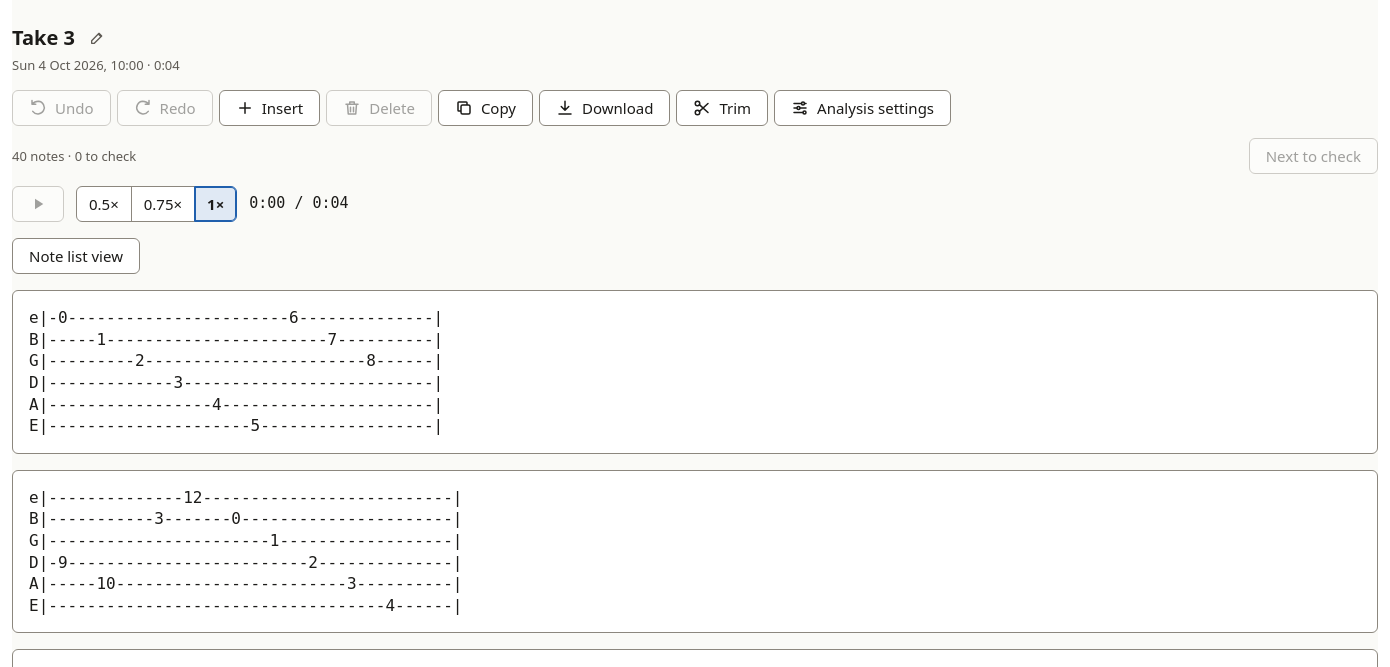
Tab screen tab area, header and selection › rename: Enter saves and focus returns to the pencil
Click the button named "Rename take" at (97, 38), box [83, 24, 111, 52]
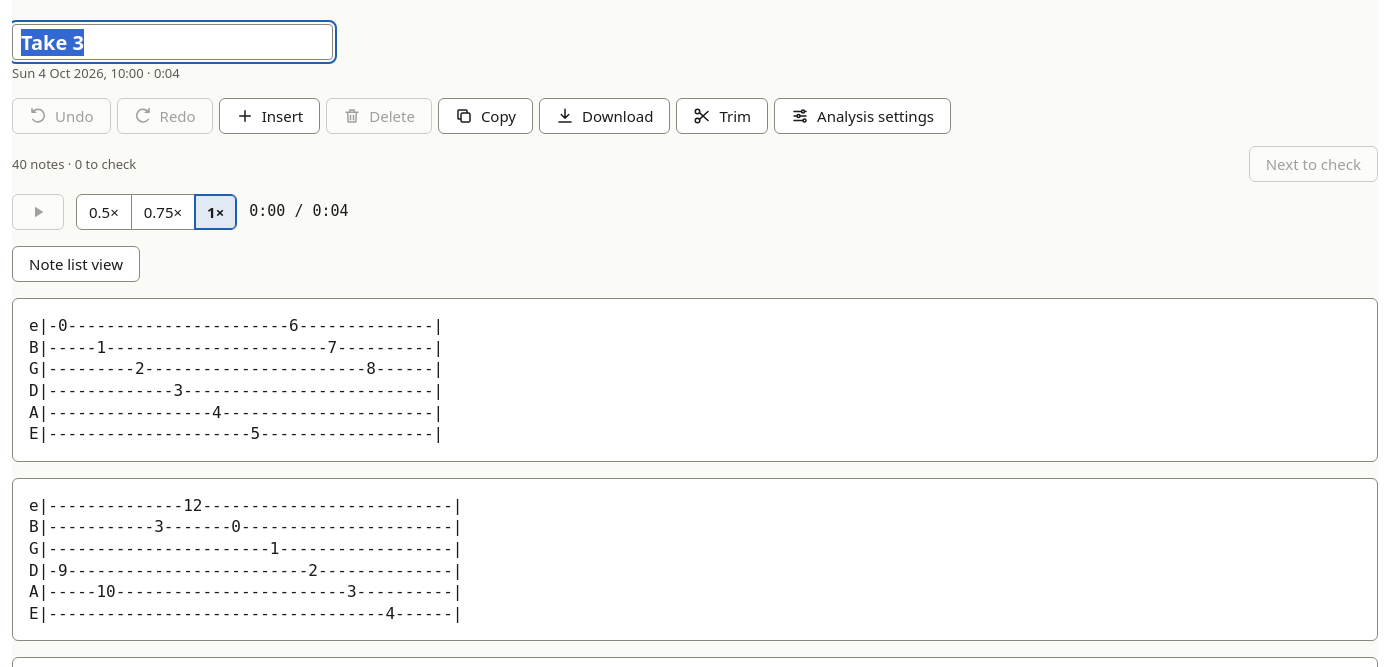
Check: the field named "Take title" holds "Take 3"
Replace the text in the field named "Take title" with "Riff in A" at (172, 42), box [12, 24, 333, 60]
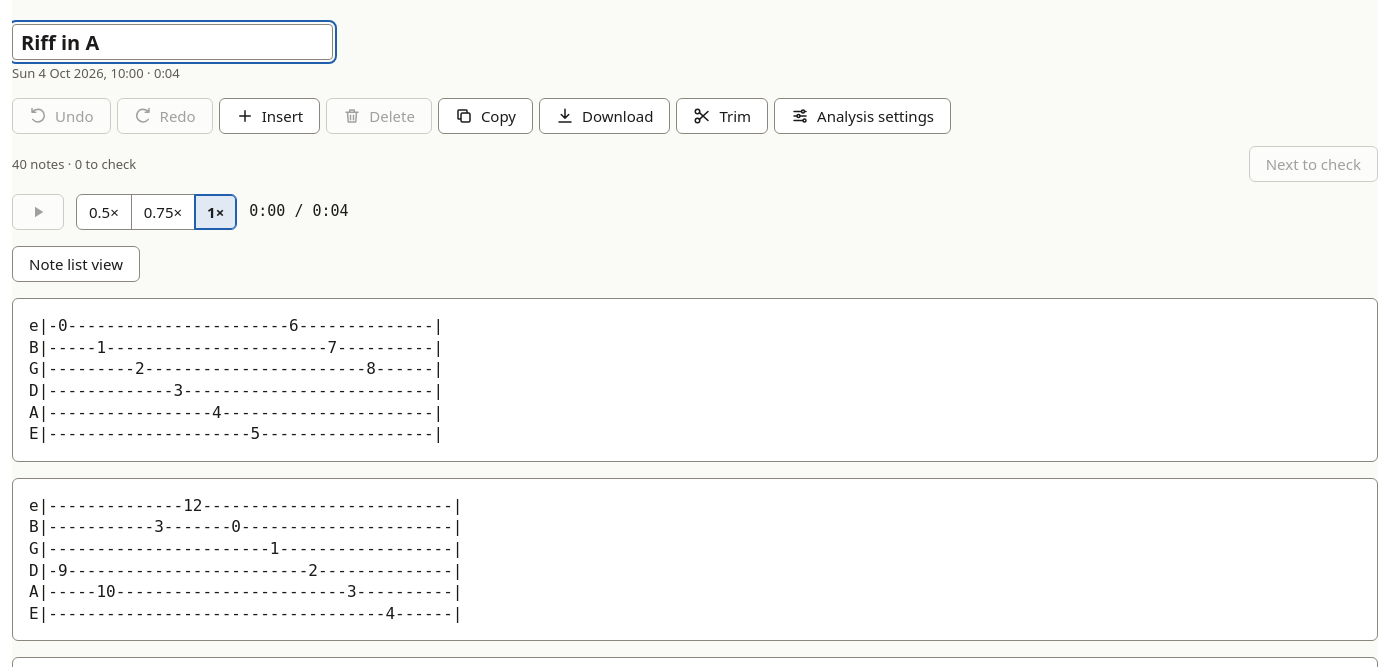
Press Enter in the field named "Take title", box [12, 24, 333, 60]
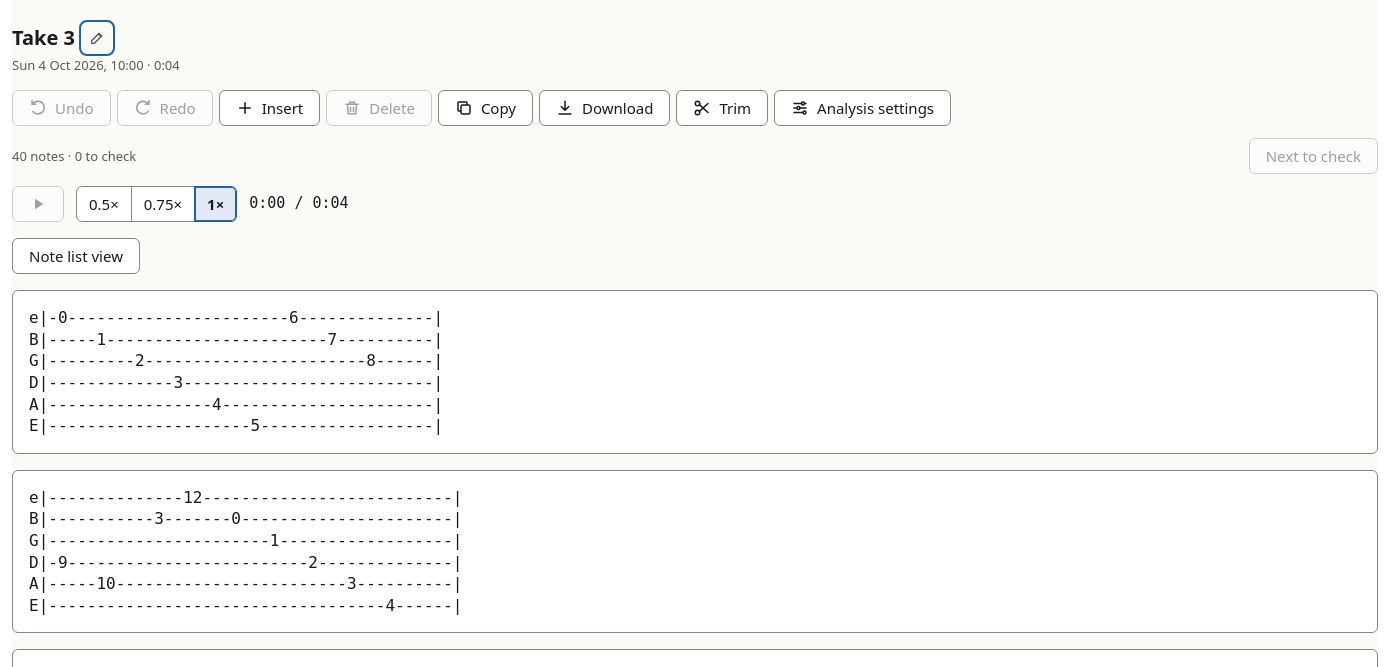
Check: the field is gone
